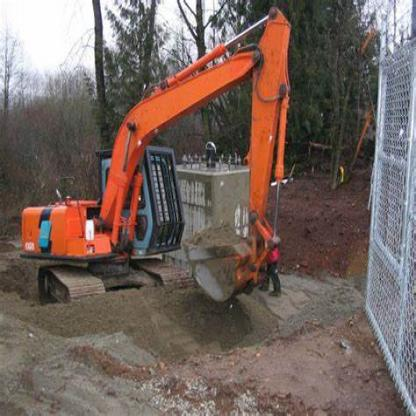excavator: (20, 7, 306, 327)
